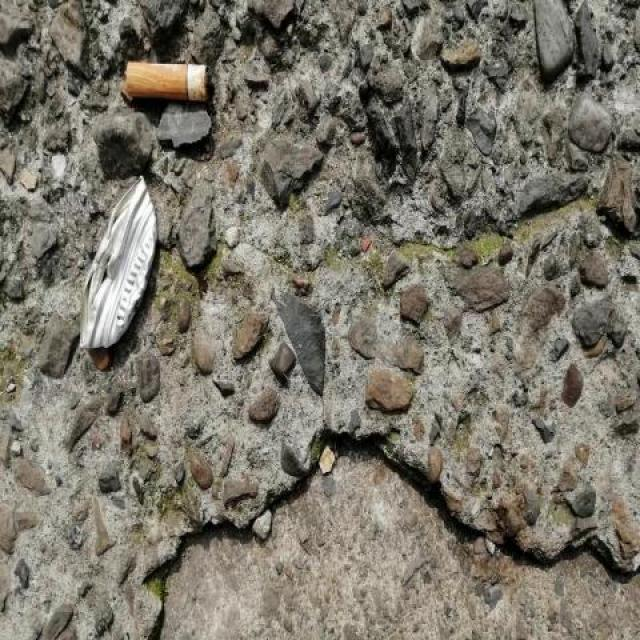non-organic waste: (121, 58, 218, 111)
